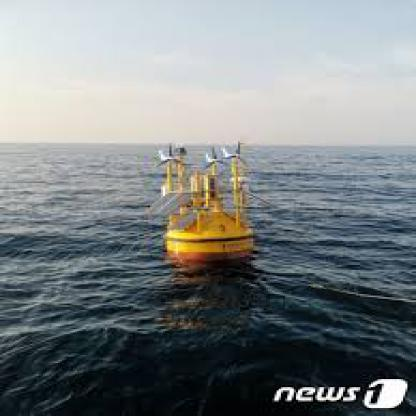buoy: (141, 134, 281, 264)
